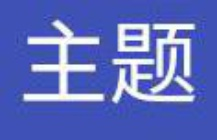TextView: (1, 1, 216, 139)
